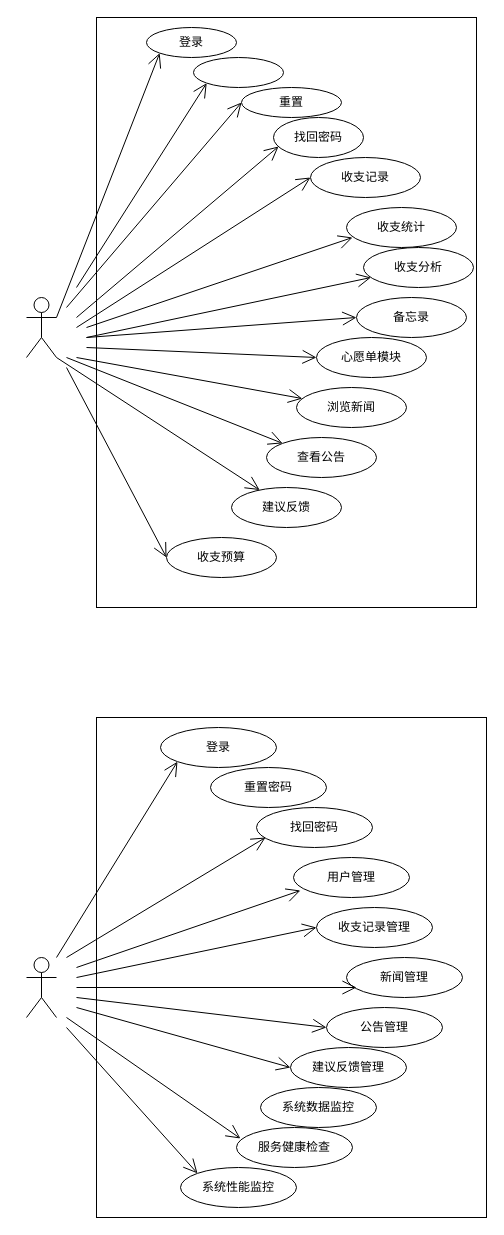
The diagram is 504 pixels wide and 1235 high, and some of its shapes have lost their labels. Each missing label, with the centre of its shape:
"普通用户" goes at (x=41, y=327).
"注册" goes at (x=238, y=72).
"管理员" goes at (x=41, y=987).
